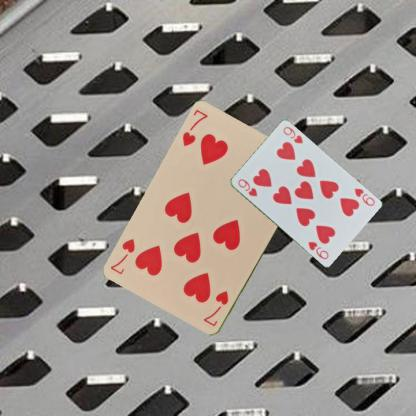7h: (180, 107, 210, 148), (200, 288, 230, 328)
9h: (351, 186, 376, 208), (235, 176, 258, 198)
